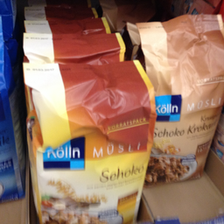cereal: (23, 60, 157, 224), (129, 15, 223, 186)
